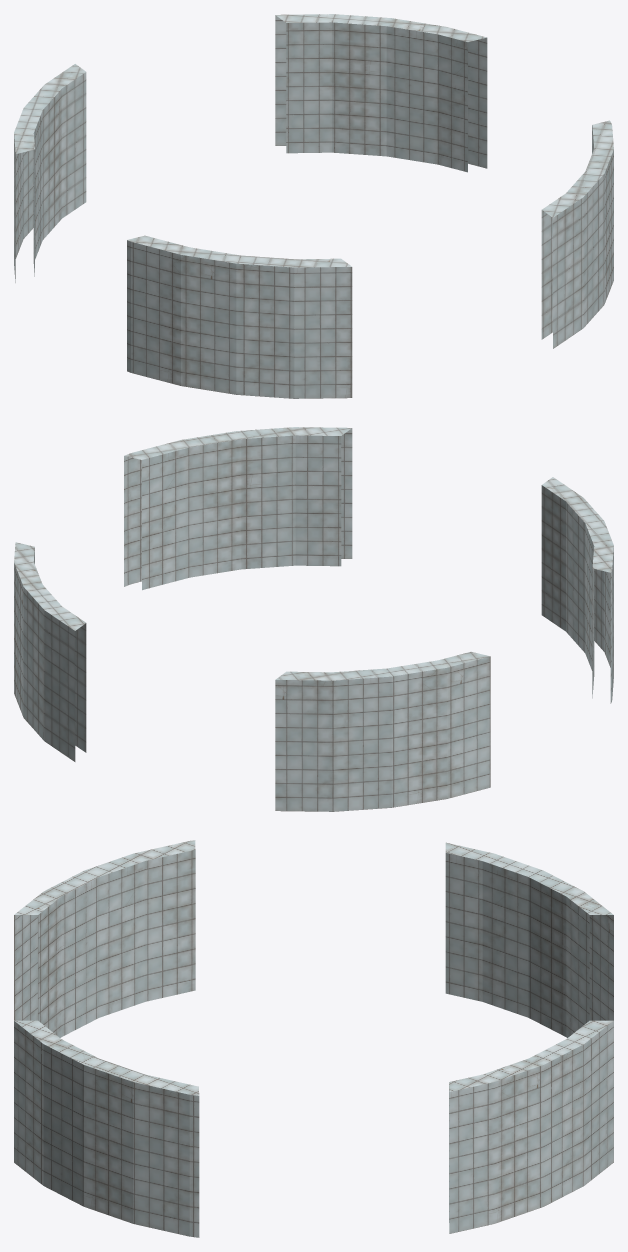
Rendered from Untitlefd.glb.
3 renders of one model, top to bottom at view 1: azimuth 30°, elevation 25°; view 2: azimuth 150°, elevation 25°; view 3: azimuth 270°, elevation 25°, orthographic. The views are drawn at different scales.
Visible parts, largest first — view 1: Cylinder; view 2: Cylinder; view 3: Cylinder.
Part boxes in pixels (x1,y1,x2,y2): Cylinder: [14, 14, 613, 398]; Cylinder: [14, 427, 613, 811]; Cylinder: [14, 840, 613, 1237].
Size of the model in its own units: 15.2 by 3.93 by 15.06.
1 material, 1 textured.
